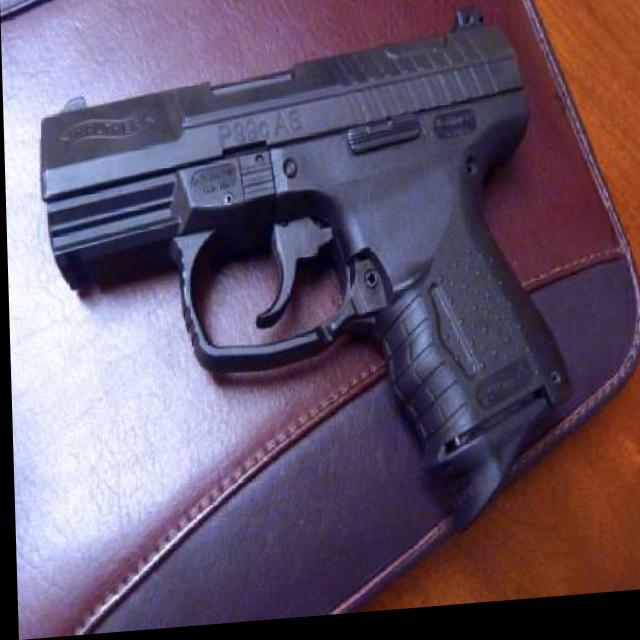handgun: (36, 7, 573, 574)
